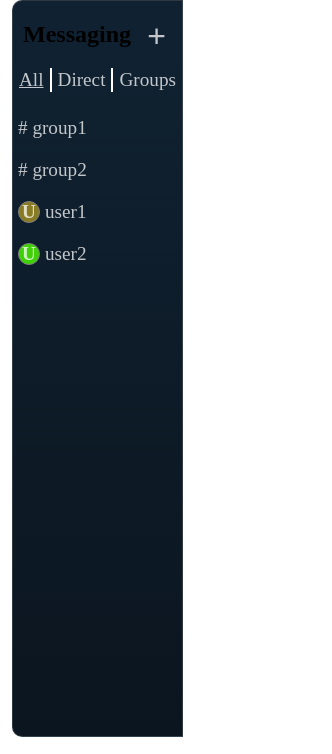
Test case: side bar component › Drop down menu to create groups shows upon click
Click the button "+" at (157, 33), box [141,17,172,49]
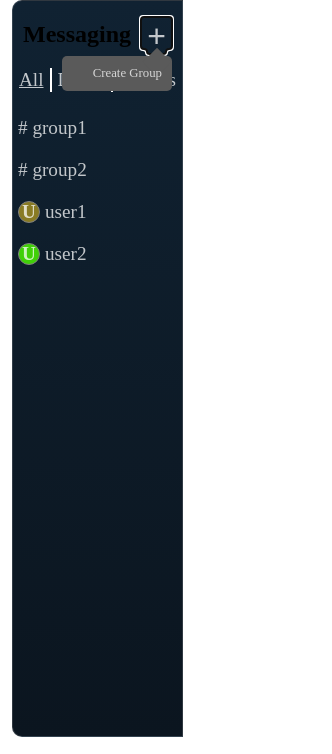
expect the link "Create Group" is shown: met, box [93,66,162,80]
